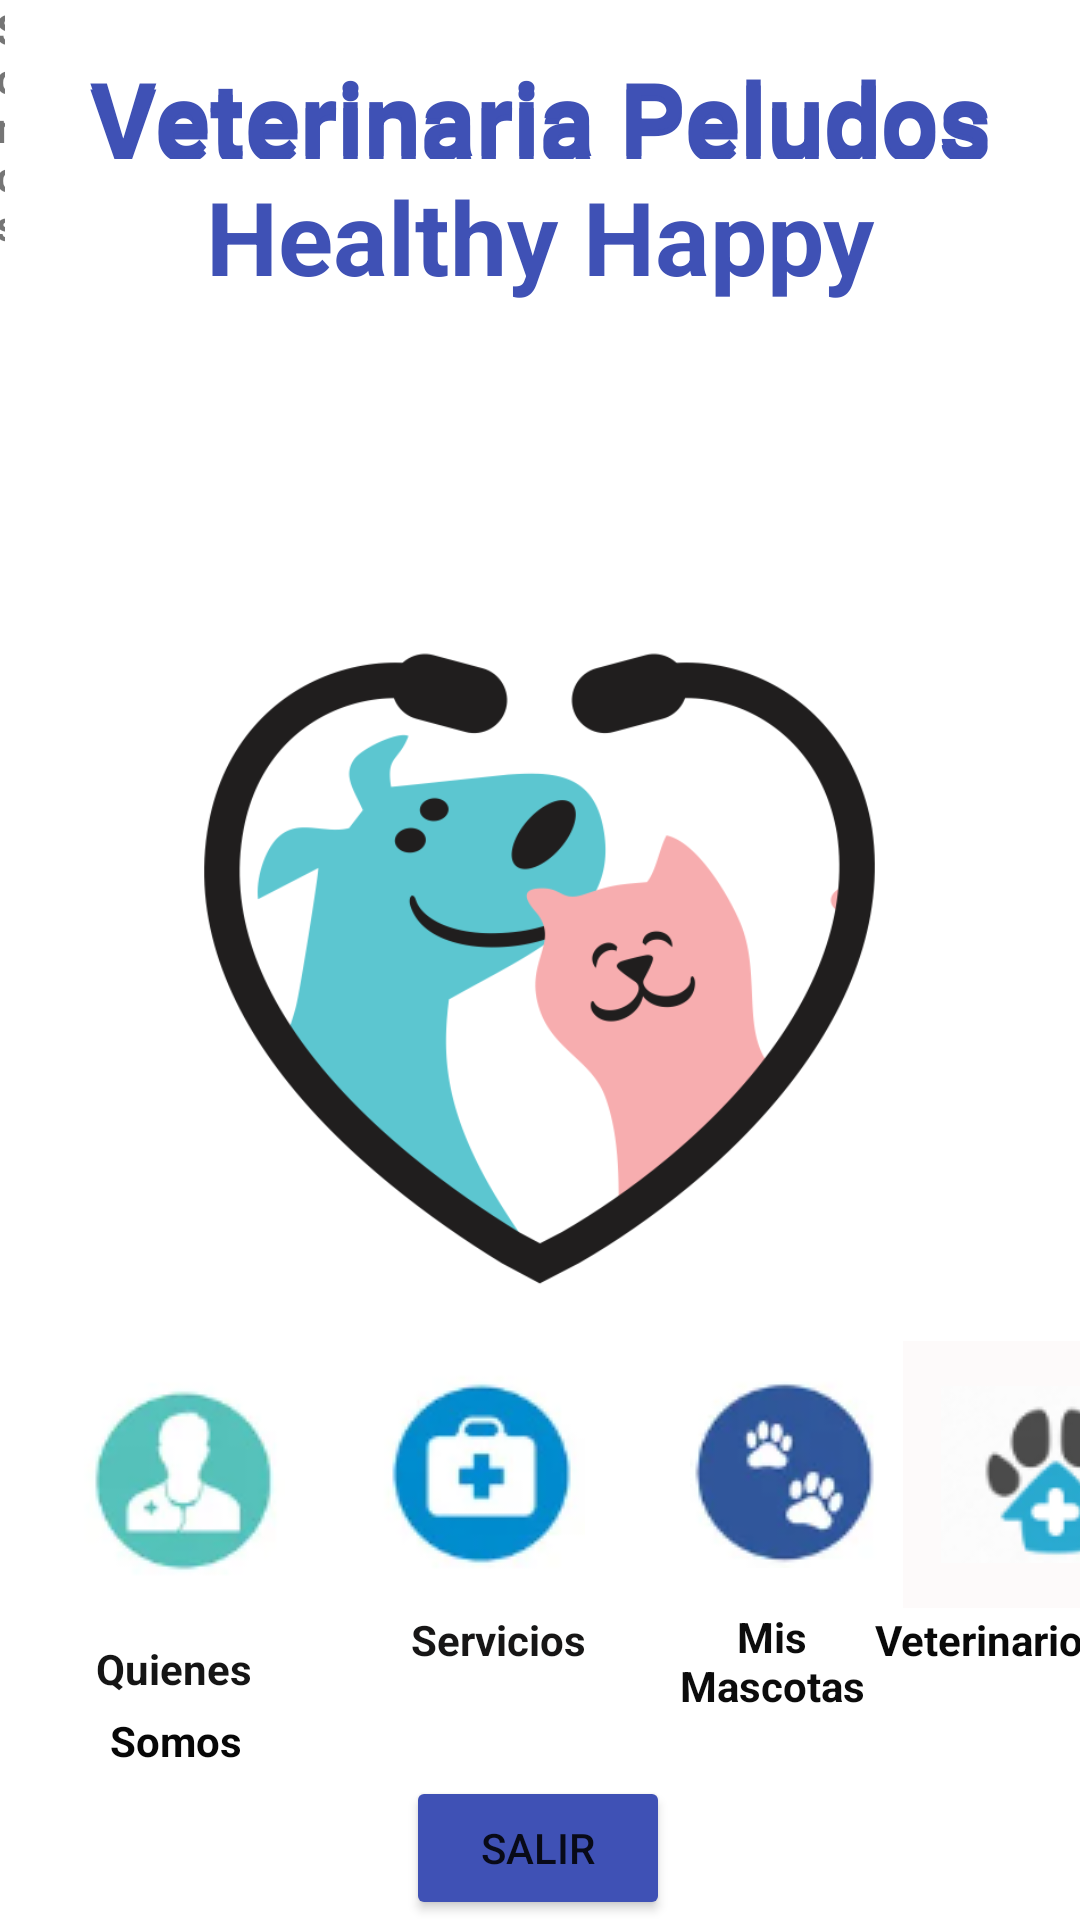

Where to tap for icons on this 1080 x 1920 app screen, as (x=x, y=y):
botiquin: (x=481, y=1473)
huella: (x=784, y=1473)
user: (x=184, y=1480)
